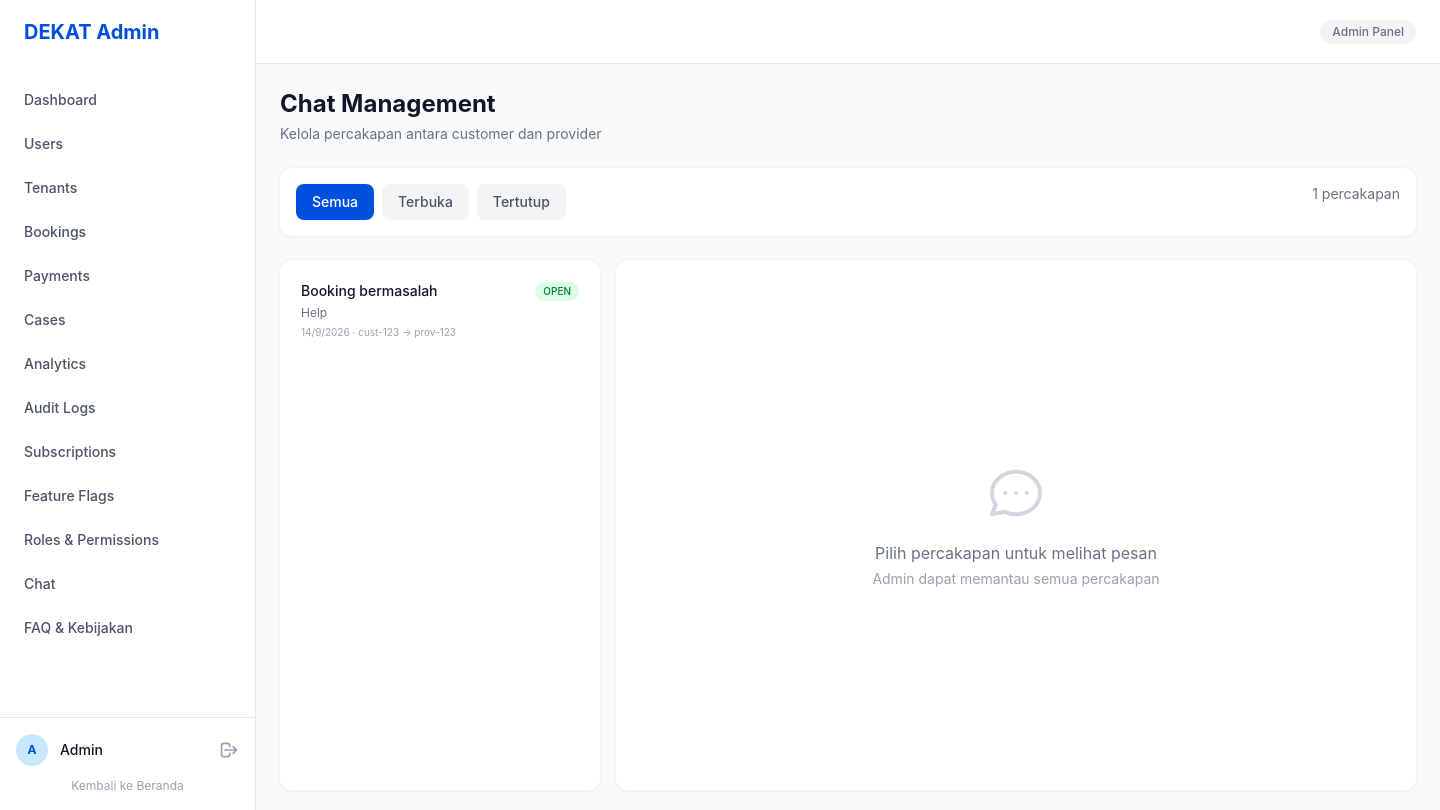
AdminChatPage › clicking a conversation selects it and shows messages
Click the text "Booking bermasalah". click: (369, 291)
box: [301,281,438,301]
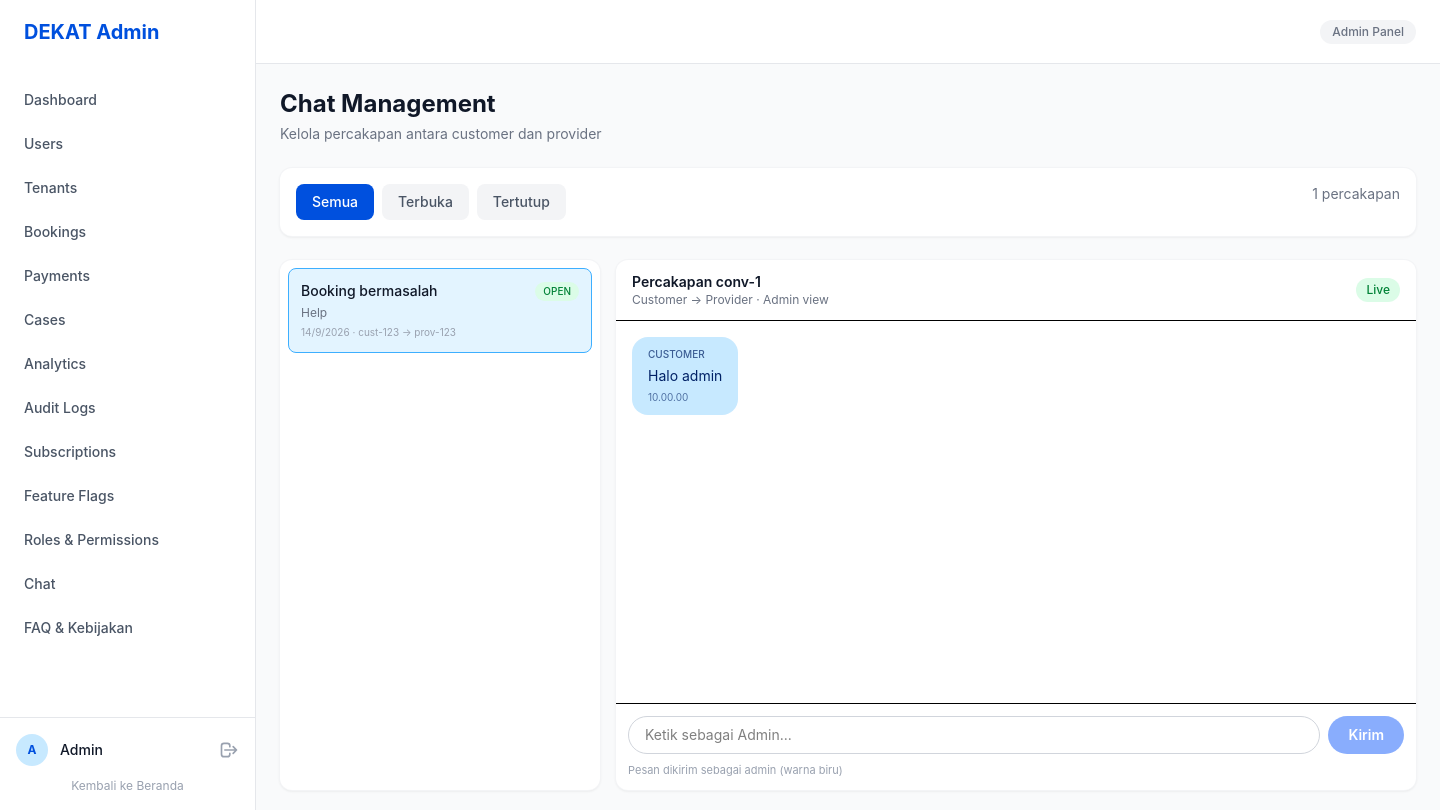
Result: the text "Halo admin" is shown at [648,366,722,386]
Result: the text "Live" is shown at [1356,278,1400,302]
